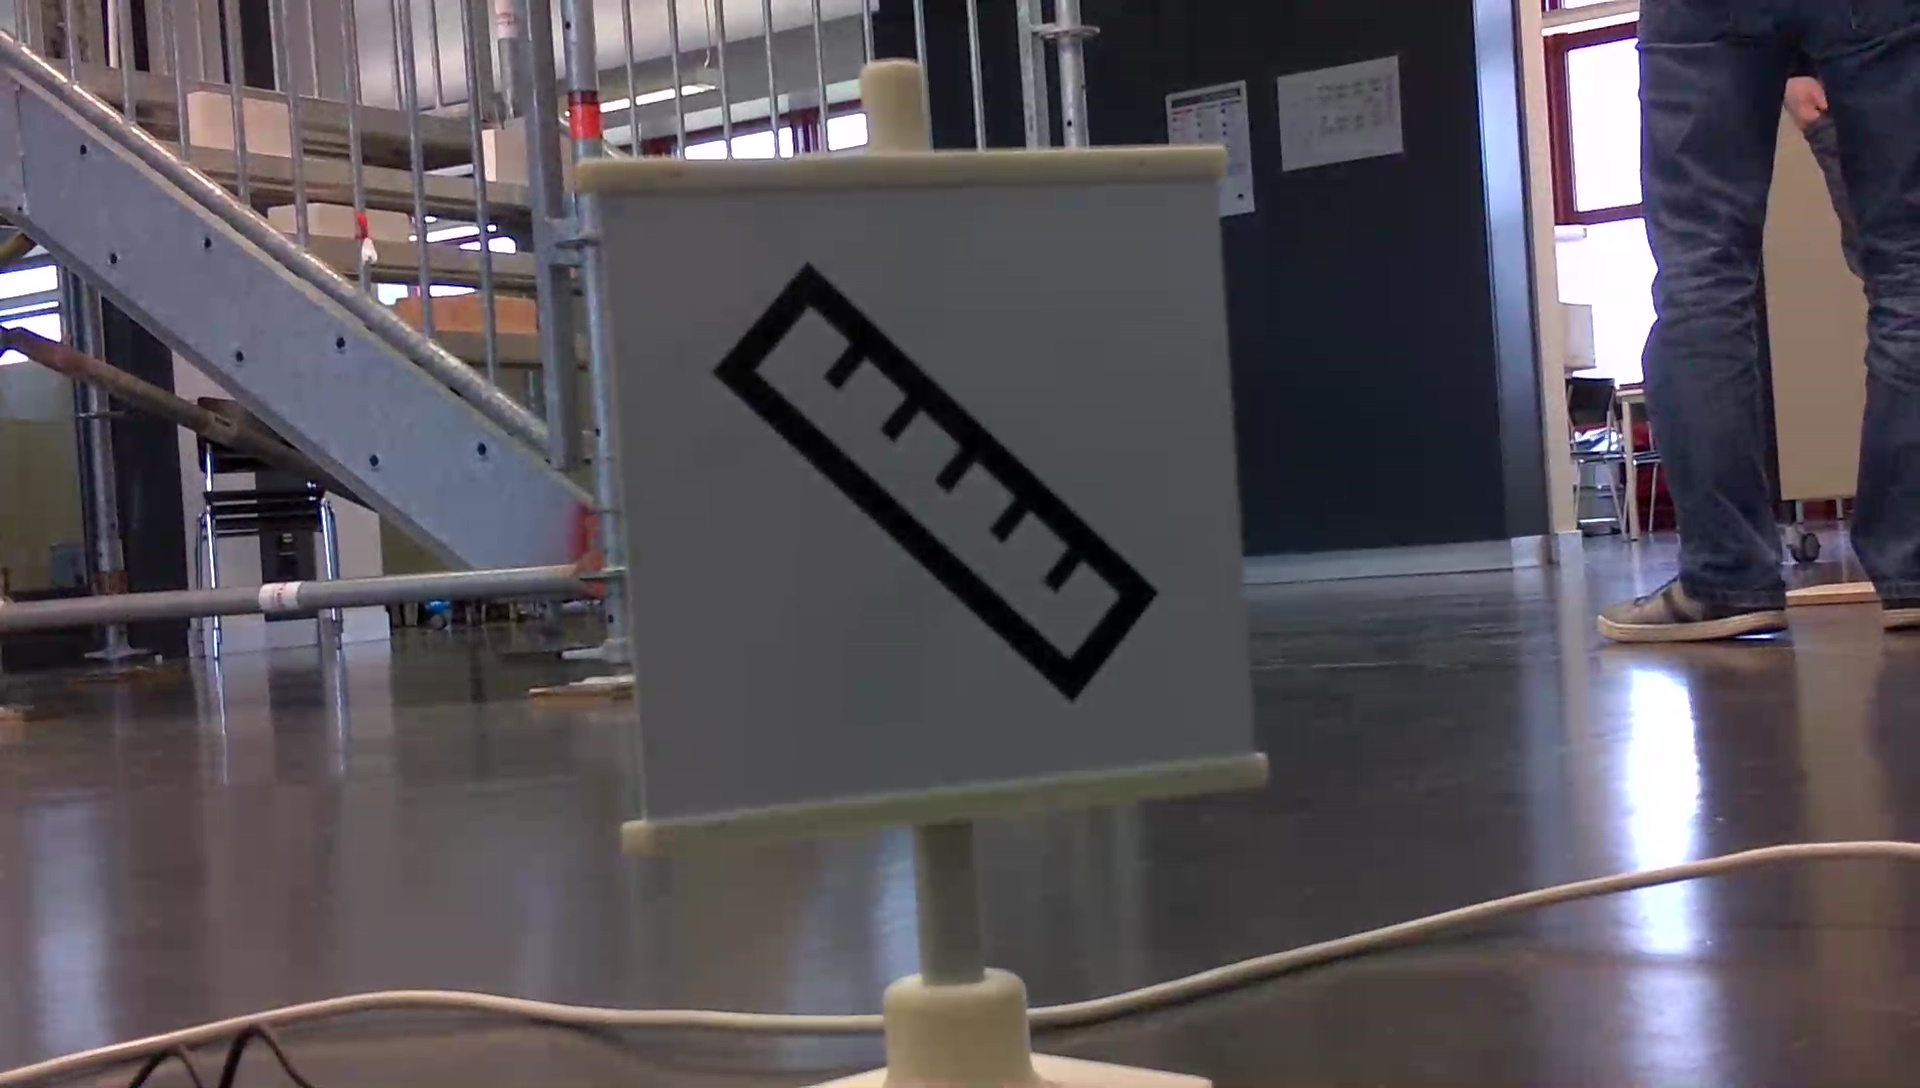ruler: (712, 255, 1153, 708)
